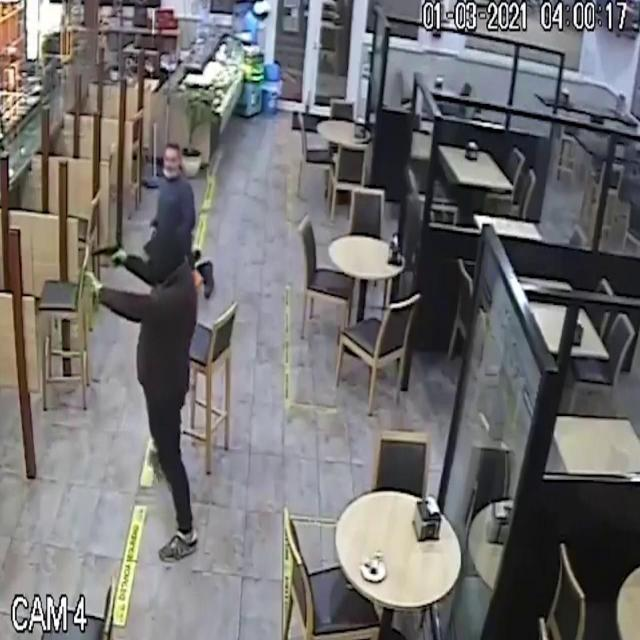weapon: (80, 228, 140, 278)
